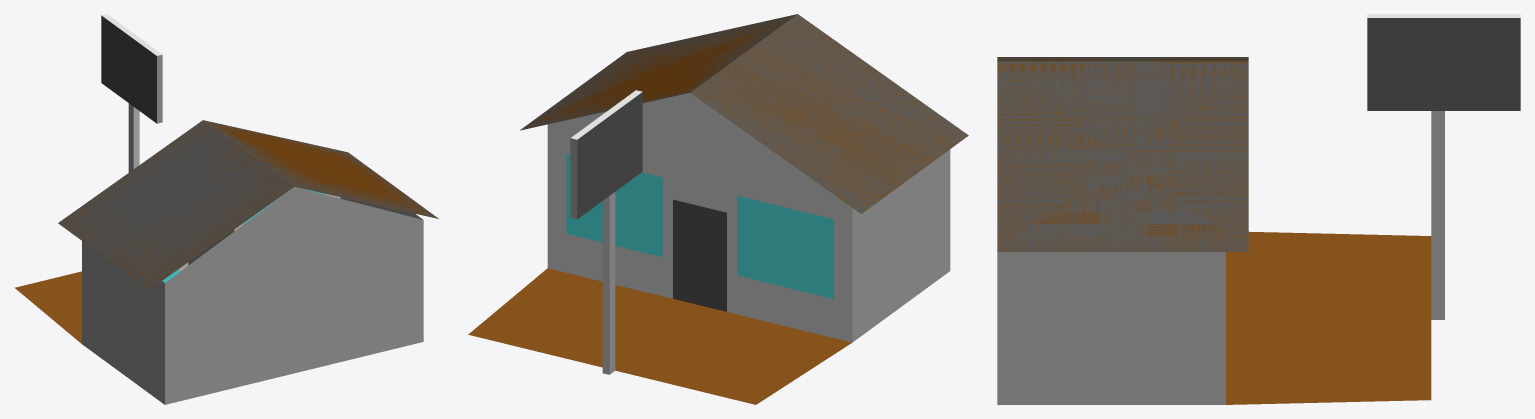
Rendered from rest.obj.
The picture shows the model from 3 angles, left to right: view 1: azimuth 30°, elevation 25°; view 2: azimuth 150°, elevation 25°; view 3: azimuth 270°, elevation 25°; orthographic projection. The views are drawn at different scales.
Bounding box in the file's own units: 404 × 292 × 458.
